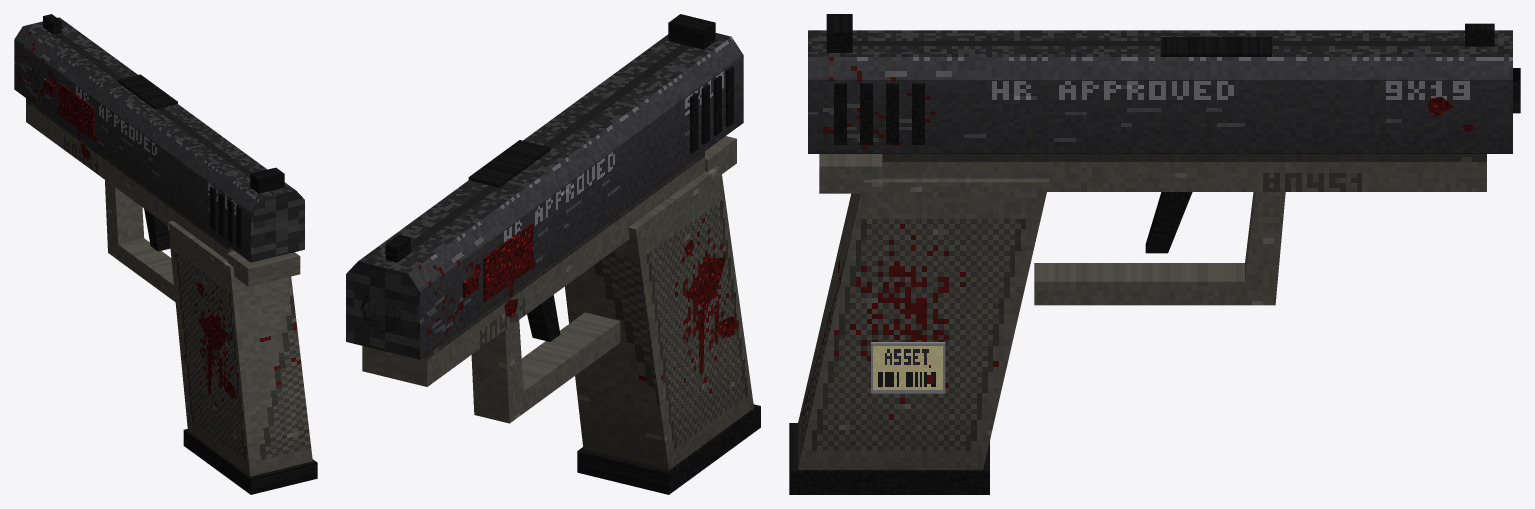
The model's file is pistol.glb.
3 views of the same model, side by side, from view 1: azimuth 30°, elevation 25°; view 2: azimuth 150°, elevation 25°; view 3: azimuth 270°, elevation 25° (orthographic). The views are drawn at different scales.
Visible parts, largest first — view 1: Pistol, Slide; view 2: Pistol, Slide; view 3: Pistol, Slide.
Part boxes in pixels (x1=…): Pistol: x1=26, y1=98, x2=317, y2=494; Slide: x1=14, y1=14, x2=304, y2=262; Pistol: x1=362, y1=136, x2=760, y2=494; Slide: x1=346, y1=14, x2=743, y2=359; Pistol: x1=789, y1=154, x2=1486, y2=494; Slide: x1=808, y1=14, x2=1520, y2=153.
Size of the model in its own units: 0.031 by 0.133 by 0.197.
5 materials, 5 textured.
